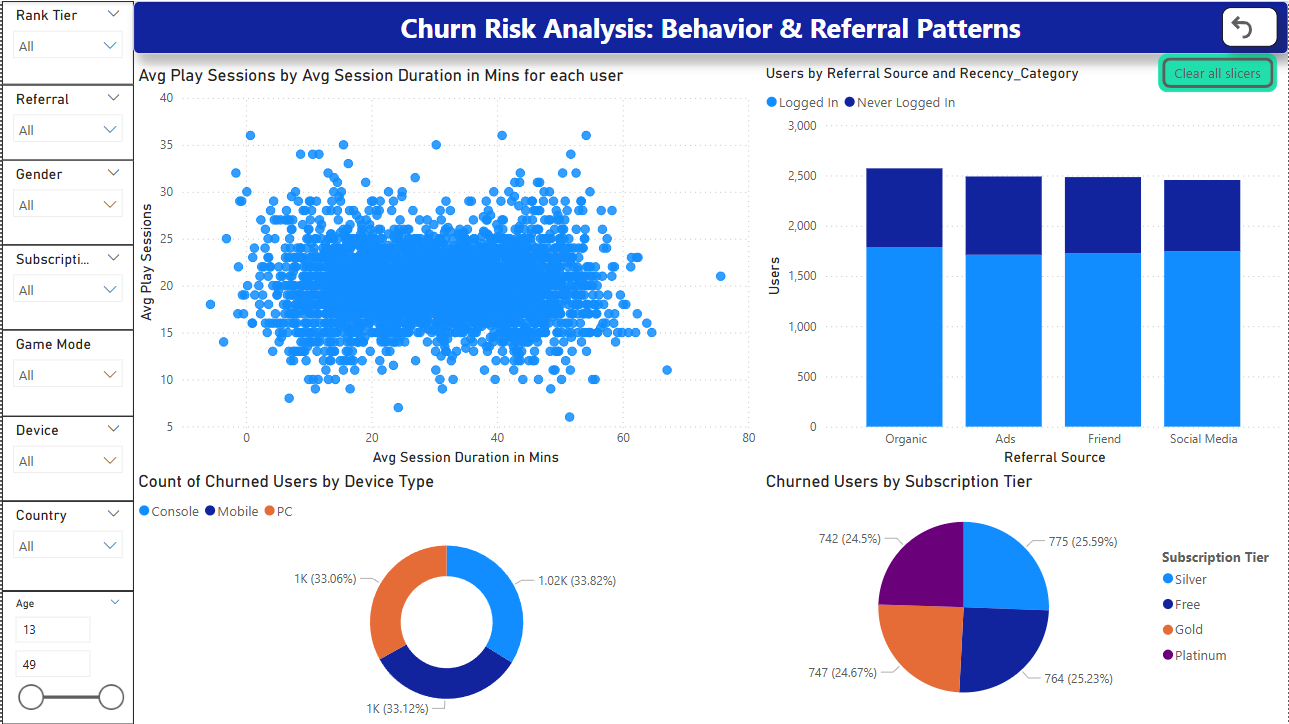

What the dashboard file says about the page in this screenshot:
{"tool":"powerbi","page":{"name":"Churn Risk Analysis: Behavior & Referral Patterns","canvas":[1280,720],"ordinal":1},"visuals":[{"type":"columnChart","fields":{"Category":["matiks-clean-data.Referral_Source"],"Y":["CountNonNull(matiks-clean-data.User_ID)"],"Series":["matiks-clean-data.Recency_Category"]},"box":[755.1,63.9,525.2,403.9],"z":0},{"type":"scatterChart","title":"Avg Play Sessions by Avg Session Duration in Mins for each user","fields":{"Y":["Avg(matiks-clean-data.Total_Play_Sessions)"],"X":["matiks-clean-data.Avg_Session_Duration_Min"]},"box":[130.9,63.9,624.2,403.9],"z":1000},{"type":"pieChart","fields":{"Category":["matiks-clean-data.Subscription_Tier"],"Y":["CountNonNull(matiks-clean-data.Recency_Category)"]},"box":[755.1,467.7,525.2,252.2],"z":2000},{"type":"donutChart","fields":{"Category":["matiks-clean-data.Device_Type"],"Y":["CountNonNull(matiks-clean-data.Recency_Category)"]},"box":[130.9,467.7,624.2,252.2],"z":3000},{"type":"slicer","fields":{"Values":["matiks-clean-data.Gender"]},"box":[0,158,130.9,84.6],"z":4000},{"type":"slicer","fields":{"Values":["matiks-clean-data.Subscription_Tier"]},"box":[0,242.7,130.9,84.6],"z":5000},{"type":"slicer","fields":{"Values":["matiks-clean-data.Rank_Tier"]},"box":[0,0,130.9,83],"z":6000},{"type":"slicer","fields":{"Values":["matiks-clean-data.Referral_Source"]},"box":[0,83,130.9,75],"z":7000},{"type":"slicer","fields":{"Values":["matiks-clean-data.Preferred_Game_Mode"]},"box":[0,327.3,130.9,86.2],"z":8000},{"type":"slicer","fields":{"Values":["matiks-clean-data.Device_Type"]},"box":[0,413.5,130.9,84.6],"z":9000},{"type":"slicer","fields":{"Values":["matiks-clean-data.Country"]},"box":[0,498.1,130.9,89.4],"z":10000},{"type":"slicer","fields":{"Values":["matiks-clean-data.Age"]},"box":[0,587.5,130.9,132.5],"z":11000},{"type":"textbox","box":[130.9,0,1149.4,52.7],"z":12000},{"type":"actionButton","box":[1150.9,52.8,118.8,38.3],"z":12001},{"type":"actionButton","box":[1214.3,6.6,55.4,39.6],"z":12002}]}

Visuals, with their boxes in screenshot pixels (x1, y1, x2, y2), scaled from the page's 1280x720 canvas onto the 1289x724 screenshot:
columnChart - matiks-clean-data.Referral_Source x CountNonNull(matiks-clean-data.User_ID): 760 64 1288 470
"Avg Play Sessions by Avg Session Duration in Mins for each user" scatterChart: 132 64 760 470
pieChart - matiks-clean-data.Subscription_Tier x CountNonNull(matiks-clean-data.Recency_Category): 760 470 1288 723
donutChart - matiks-clean-data.Device_Type x CountNonNull(matiks-clean-data.Recency_Category): 132 470 760 723
slicer - matiks-clean-data.Gender: 0 159 132 244
slicer - matiks-clean-data.Subscription_Tier: 0 244 132 329
slicer - matiks-clean-data.Rank_Tier: 0 0 132 83
slicer - matiks-clean-data.Referral_Source: 0 83 132 159
slicer - matiks-clean-data.Preferred_Game_Mode: 0 329 132 416
slicer - matiks-clean-data.Device_Type: 0 416 132 501
slicer - matiks-clean-data.Country: 0 501 132 591
slicer - matiks-clean-data.Age: 0 591 132 723
textbox: 132 0 1288 53
actionButton: 1159 53 1279 92
actionButton: 1223 7 1279 46
